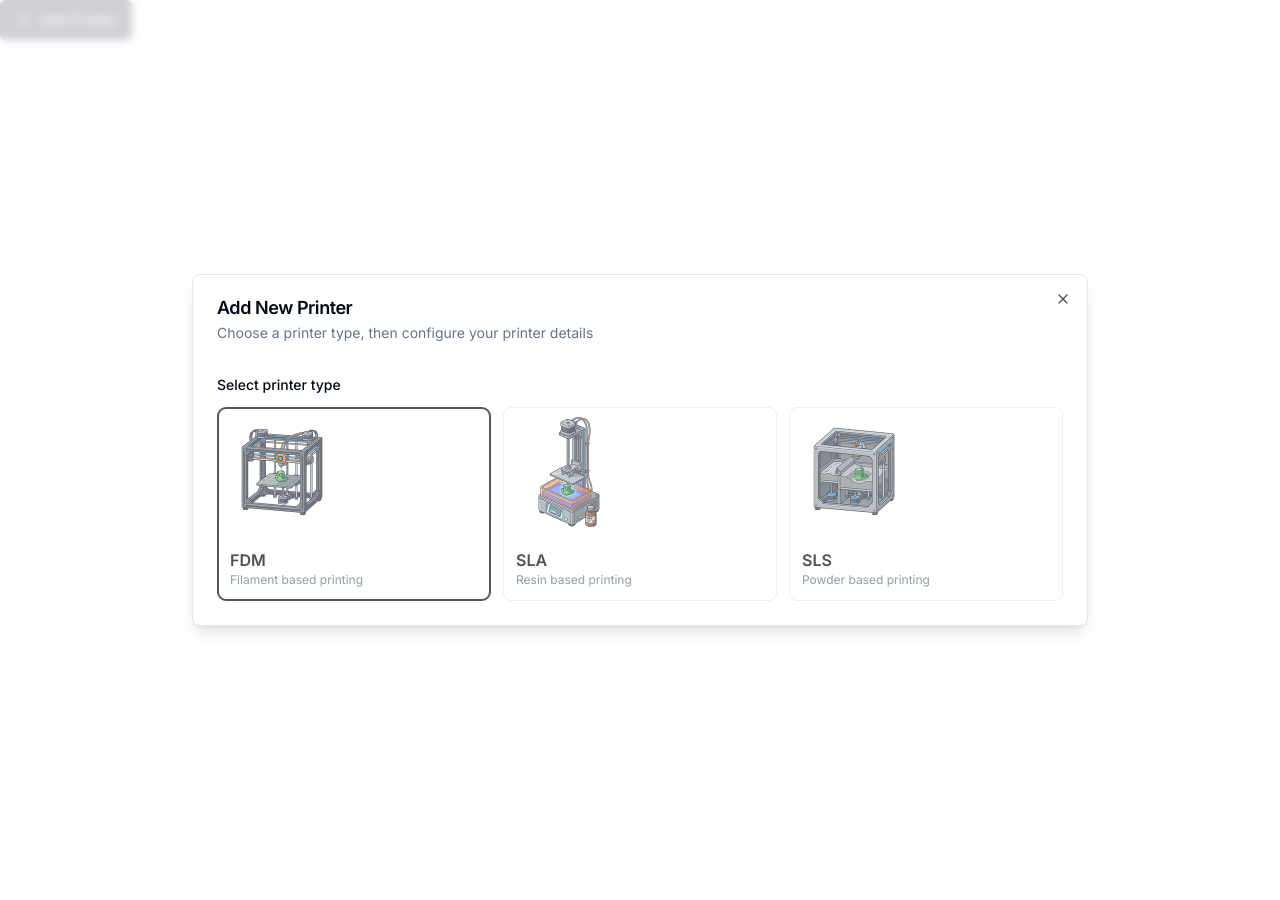
Test: CreatePrinterDialog wizard flow › selects a type, hides other types, and shows details step
Click the button with aria-label "select sla printer type" at x=568, y=472, box 503,407 -> 777,601
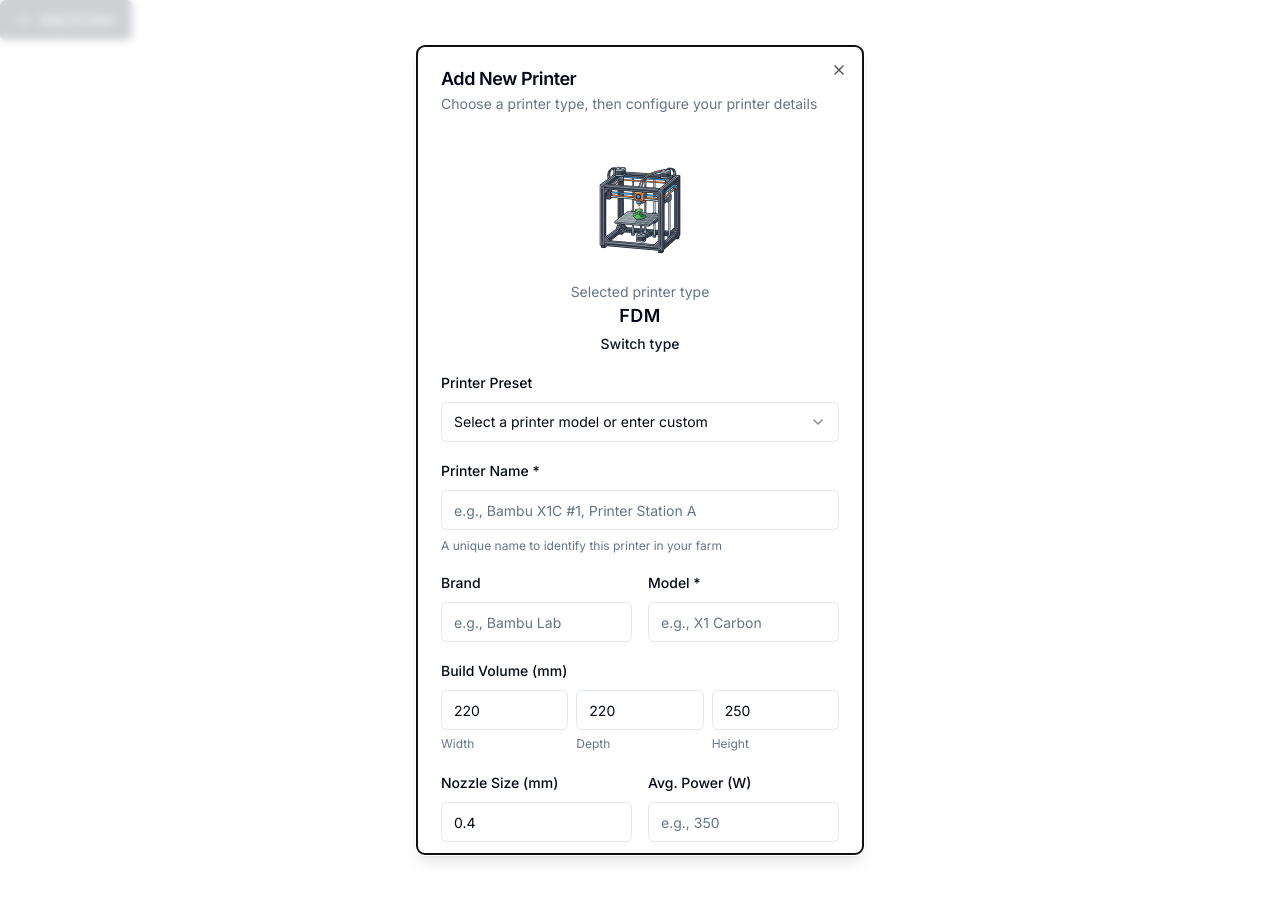
Check: the text "Selected printer type" is shown, box 571,282 -> 709,302
Check: the button "Switch type" is shown, box 600,334 -> 680,354
Check: the text "Printer Preset" is shown, box 441,374 -> 532,391
